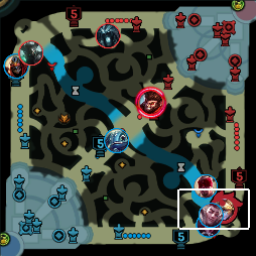ezreal: (212, 197, 234, 222)
fizz: (104, 127, 128, 153)
karthus: (94, 22, 120, 48)
leesin: (194, 174, 217, 197)
monkeyking: (139, 89, 163, 115)
mordekaiser: (18, 39, 42, 64)
rakan: (199, 202, 222, 225)
xayah: (196, 215, 221, 237)
zed: (3, 53, 28, 79)
